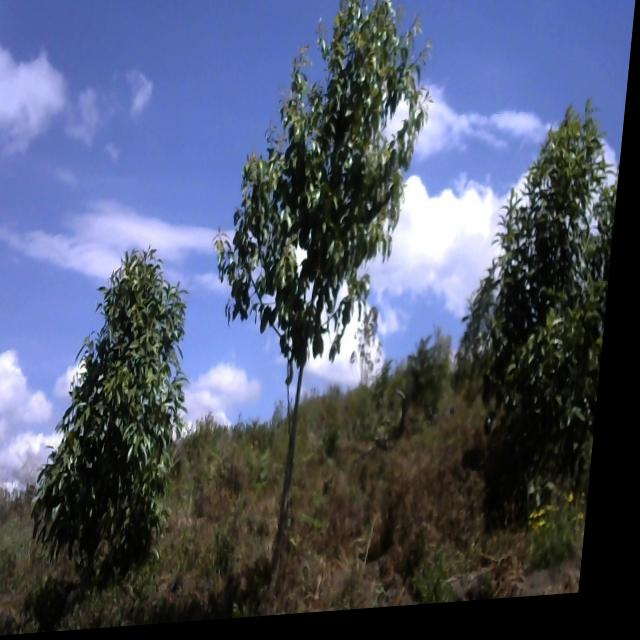Hass Avocado: (199, 0, 476, 621), (476, 123, 628, 593), (35, 253, 219, 629)
